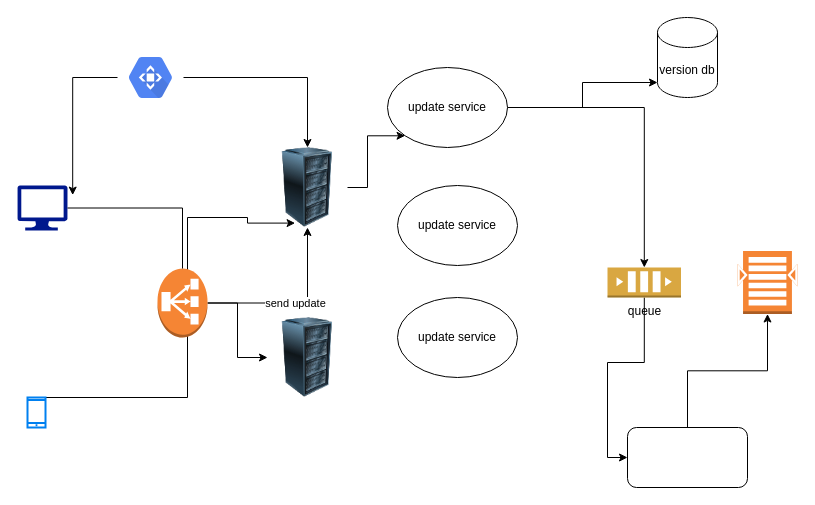
The diagram is 815 pixels wide and 505 high, and some of its shapes have lost their labels. The centre of each missing label's shape, as x and y in pixels:
"Cloud CDN" belongs at (150,77).
"synchronize service" belongs at (687,457).
